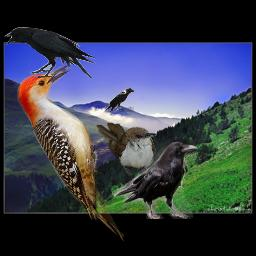Crow: (114, 139, 198, 219), (4, 27, 97, 78), (104, 87, 134, 112)
Cuckoo: (96, 122, 157, 177)
Woodpecker: (17, 64, 124, 243)
